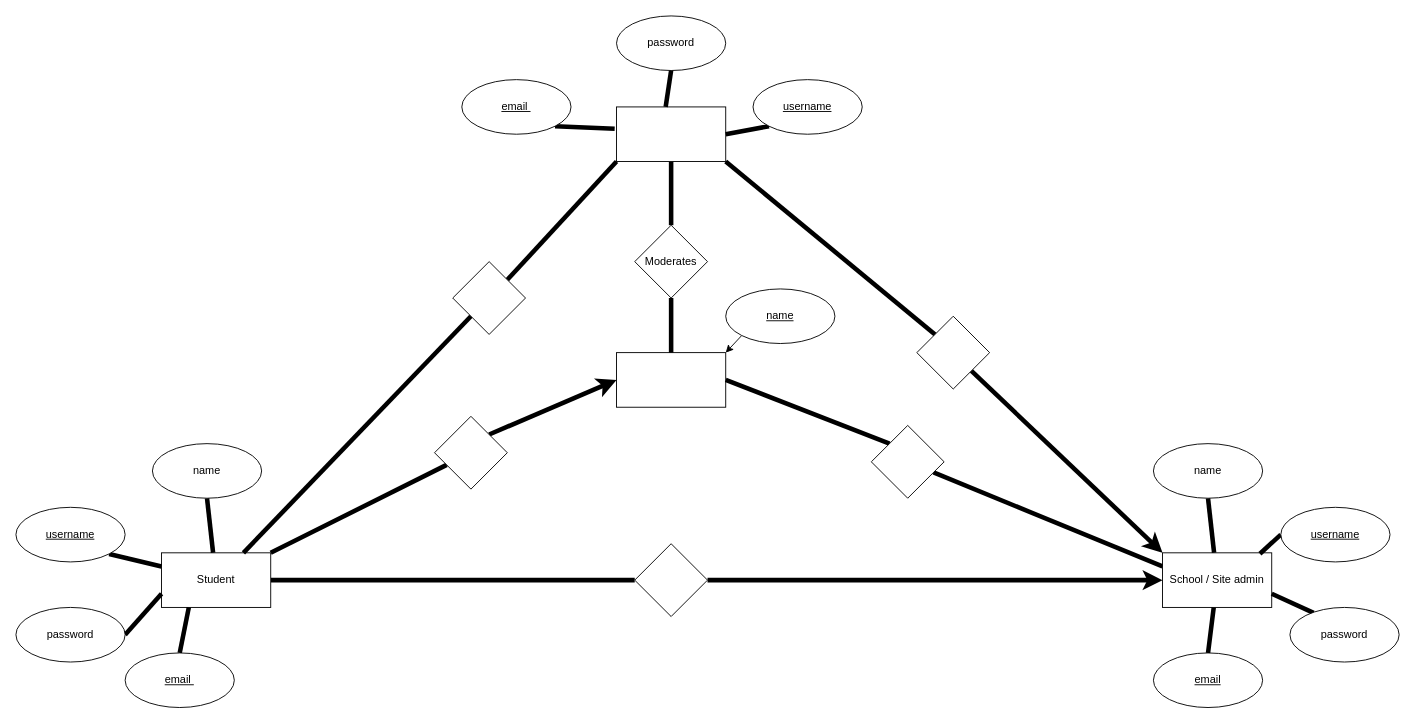
Image size: 1415x723. Some labels were removed from this diagram. Here are the shapes that lost their labels. From the top down, the centre of each, then its label:
At point 671,134: "Teacher".
At point 489,297: "Teaches".
At point 953,352: "Works at".
At point 671,379: "Portal".
At point 470,452: "Accesses".
At point 907,461: "Hosts".
At point 671,580: "Goes to".
